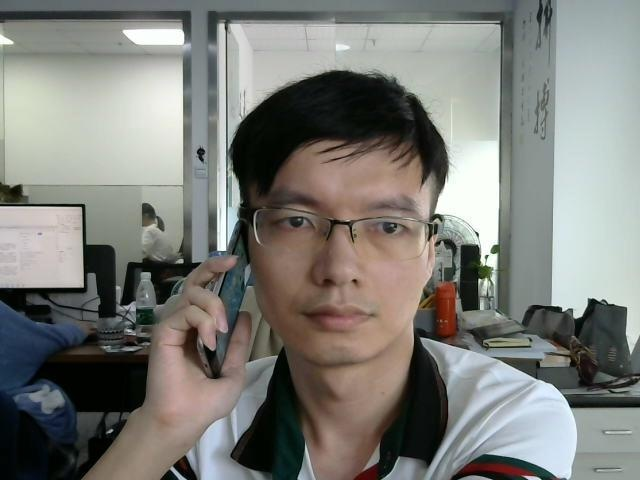hand: (155, 255, 249, 420)
